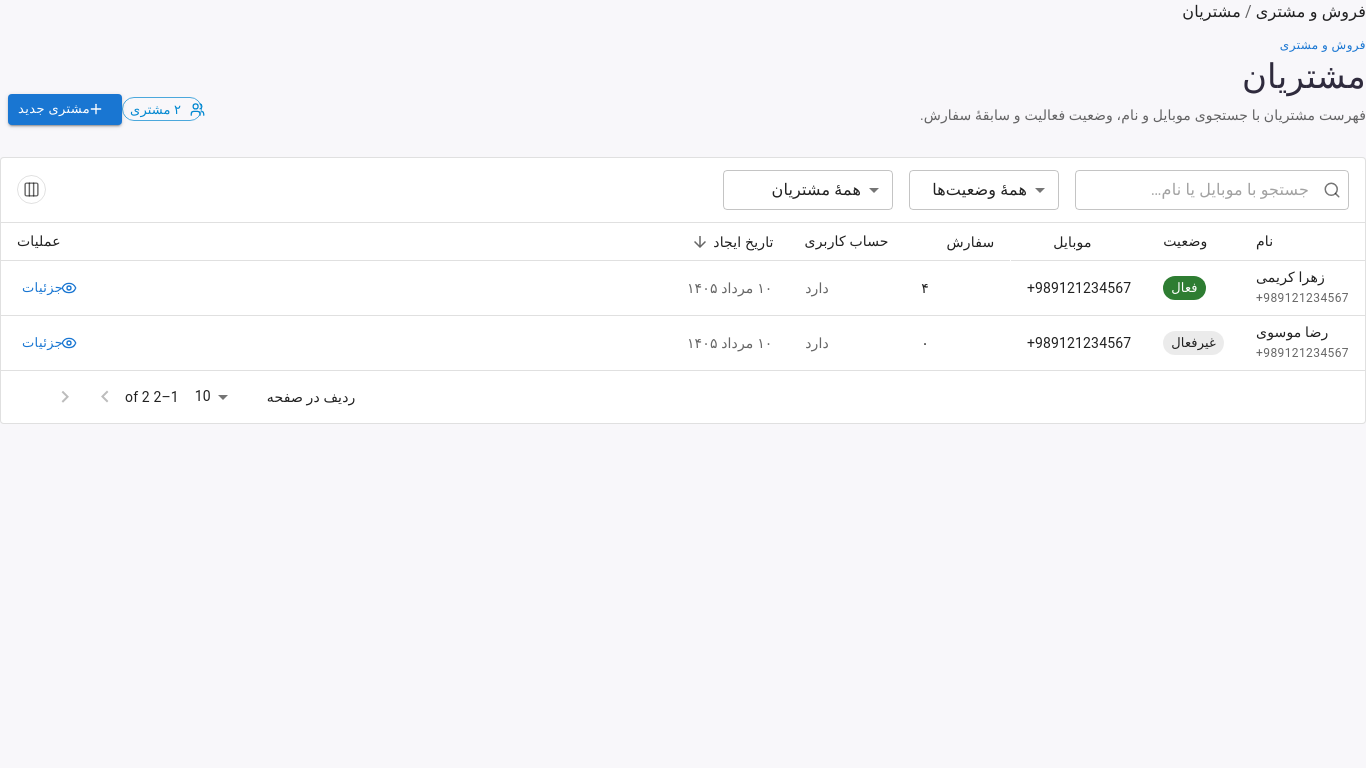
CustomersView › warns before recording a customer-visible note
Check: the text "زهرا کریمی" is shown, box x1=1256 y1=269 x2=1325 y2=285
Click the button "جزئیات" in the row of "زهرا کریمی". click: x=54, y=288
box: x1=17 y1=273 x2=90 y2=304
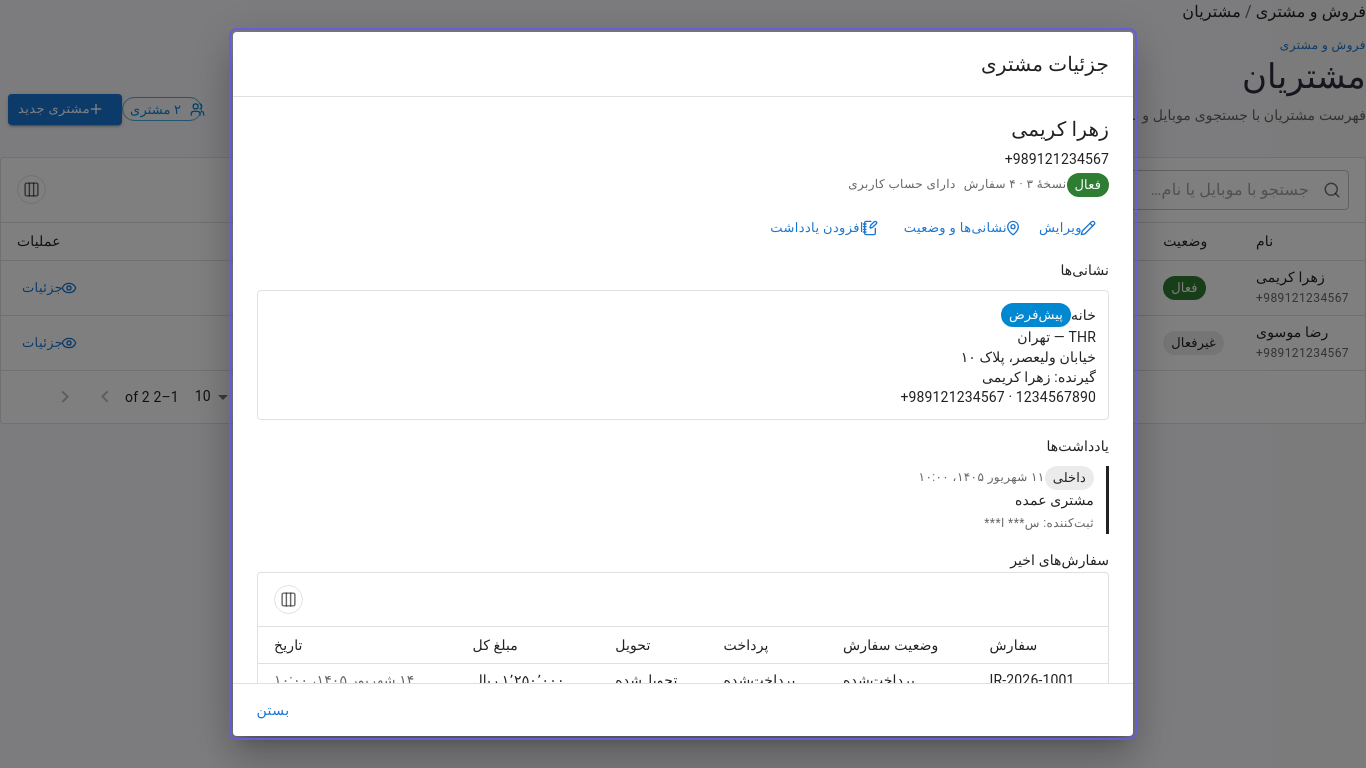
Click the button "افزودن یادداشت". click: x=828, y=228
box: x1=765 y1=213 x2=891 y2=244
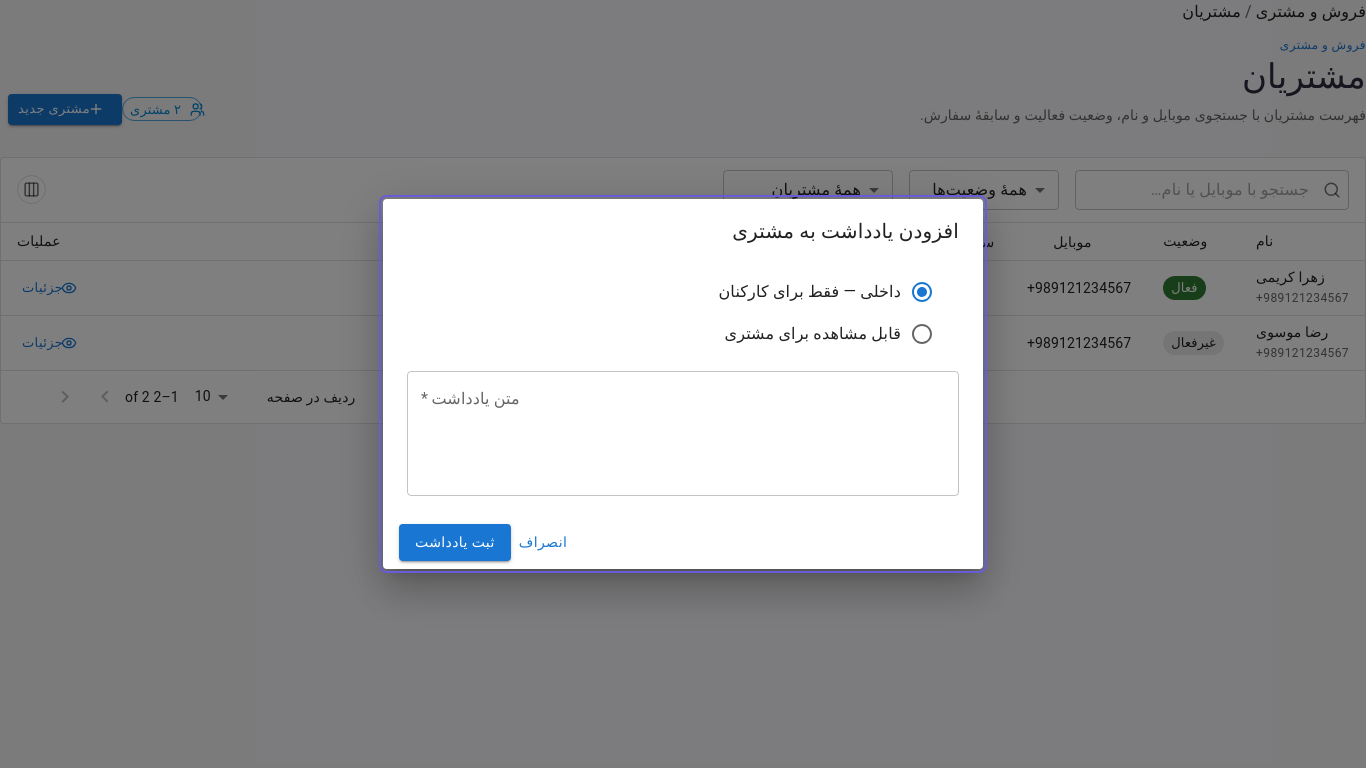
Click the radio button labelled "قابل مشاهده برای مشتری". click: x=829, y=334
box: x1=724 y1=322 x2=934 y2=346
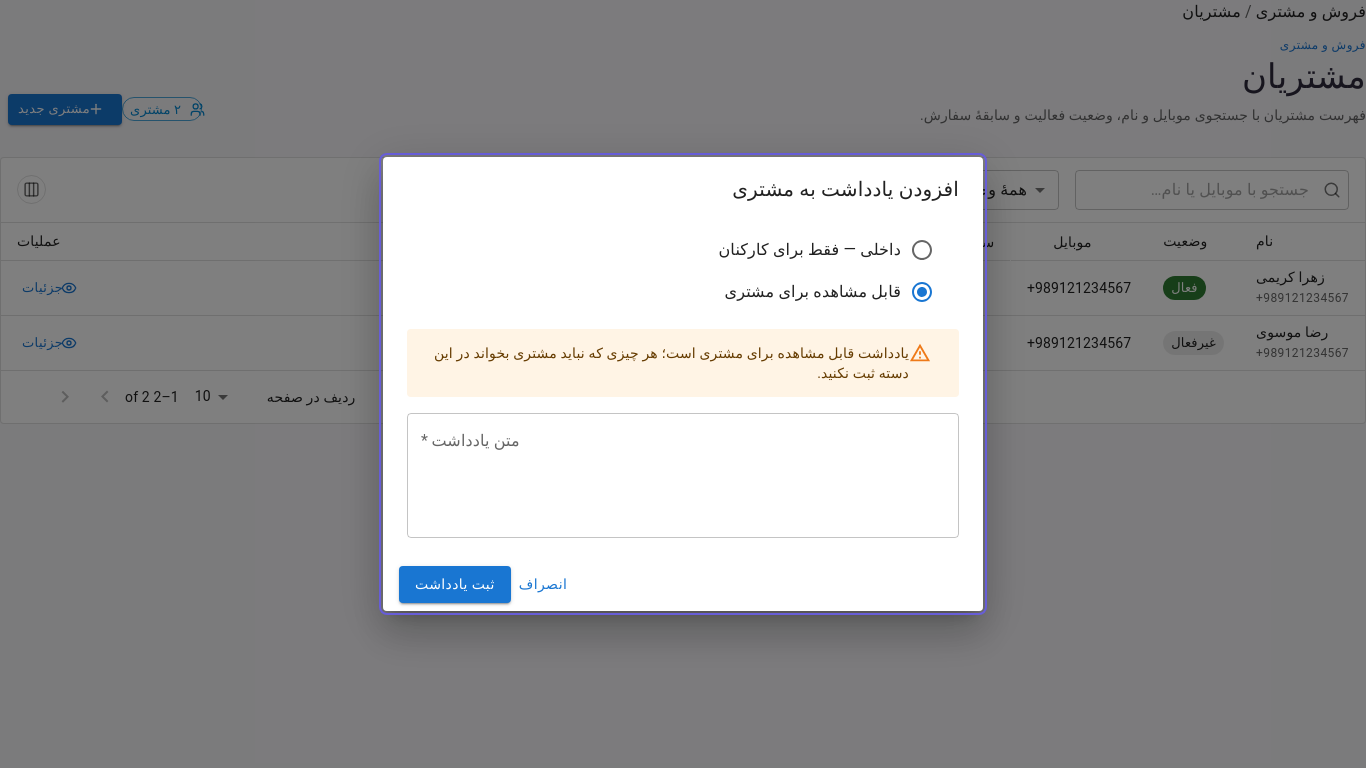
Check: the text "یادداشت قابل مشاهده برای مشتری است" is shown, box x1=434 y1=345 x2=909 y2=381
